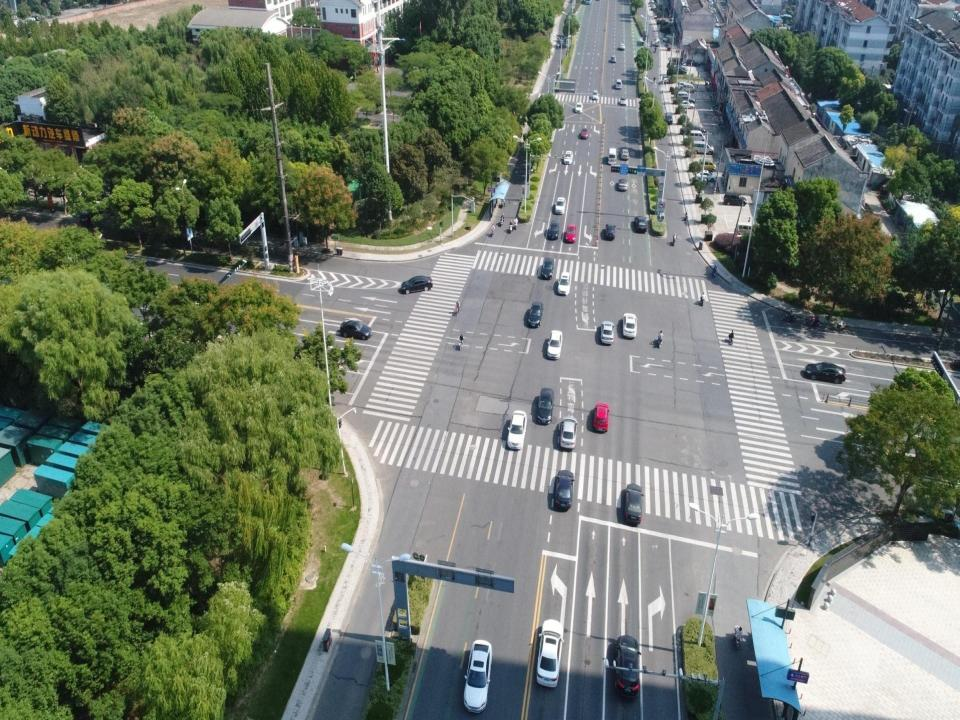car: (461, 636, 493, 712), (535, 618, 564, 688), (615, 634, 642, 692), (804, 360, 846, 384), (552, 468, 575, 510), (622, 482, 644, 524), (506, 410, 528, 452), (535, 386, 554, 426), (339, 318, 372, 341), (398, 275, 434, 295), (559, 414, 577, 450), (593, 402, 611, 432), (546, 329, 563, 360), (526, 300, 542, 328), (622, 312, 638, 340), (599, 320, 615, 346), (556, 271, 572, 297), (722, 192, 748, 206), (541, 256, 554, 280), (545, 219, 559, 239), (696, 170, 718, 181), (634, 215, 648, 232), (566, 224, 577, 243), (604, 222, 616, 239), (554, 196, 565, 213), (688, 124, 706, 134), (618, 176, 629, 191), (680, 99, 695, 109), (620, 146, 630, 160), (564, 150, 573, 165), (686, 58, 700, 67), (682, 96, 696, 104), (664, 112, 673, 124), (678, 82, 692, 89), (580, 127, 588, 139), (574, 101, 582, 113), (592, 88, 598, 102), (673, 65, 687, 71), (671, 58, 684, 64), (675, 68, 687, 74), (619, 96, 627, 104), (610, 54, 616, 64), (619, 42, 625, 49), (651, 5, 656, 11)
truck: (607, 146, 617, 165)
van: (692, 140, 714, 155), (699, 158, 716, 172), (688, 130, 705, 142), (681, 82, 695, 92), (676, 91, 691, 99), (662, 35, 675, 42), (615, 78, 622, 88), (654, 38, 661, 47), (650, 0, 654, 7)
